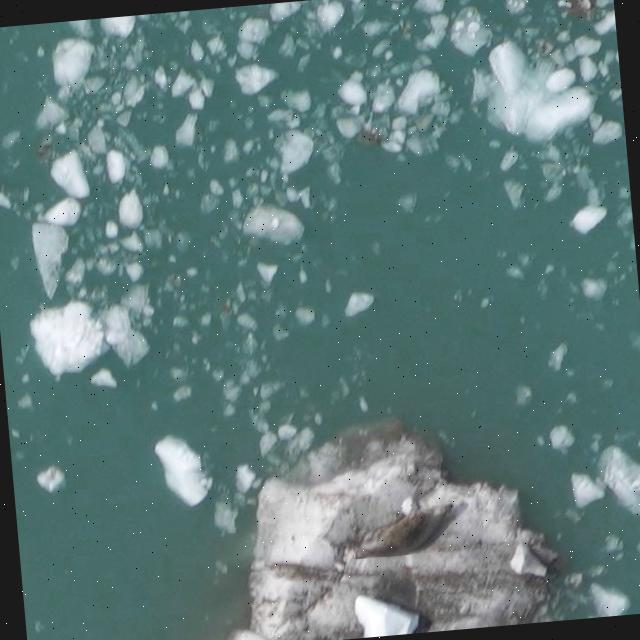seal: (353, 501, 455, 559)
